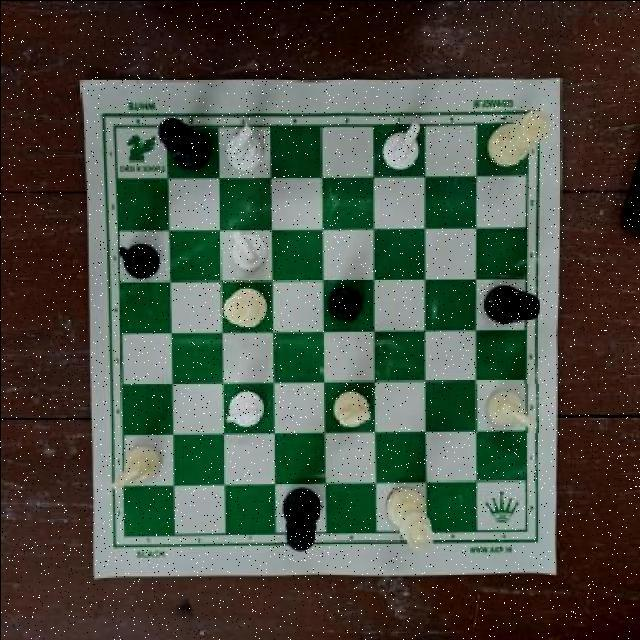black-king: (268, 488, 324, 562), (154, 113, 208, 173), (478, 280, 544, 326)
black-knight: (110, 240, 170, 282), (322, 281, 376, 324)
white-king: (485, 105, 553, 168), (217, 279, 272, 330)
white-knight: (106, 440, 166, 497), (474, 383, 540, 432), (377, 116, 426, 176), (320, 383, 377, 434), (222, 114, 270, 174), (220, 226, 269, 272), (221, 388, 267, 430)
white-queen: (380, 482, 436, 555)
